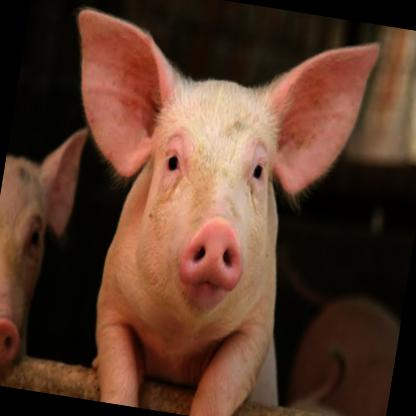Pig: (15, 0, 394, 415), (0, 113, 94, 394)
